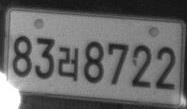2: (130, 44, 152, 87), (154, 46, 175, 89)
3: (34, 37, 56, 79)
7: (107, 43, 129, 84)
8: (82, 40, 105, 83), (11, 34, 33, 77)
러: (57, 46, 79, 81)
